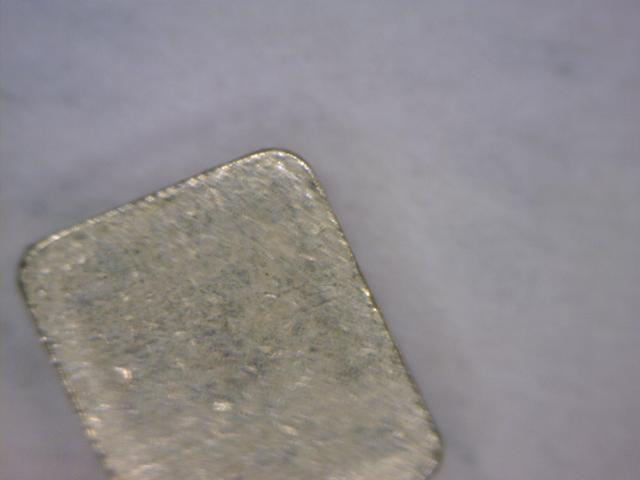ok: (10, 141, 464, 475)
